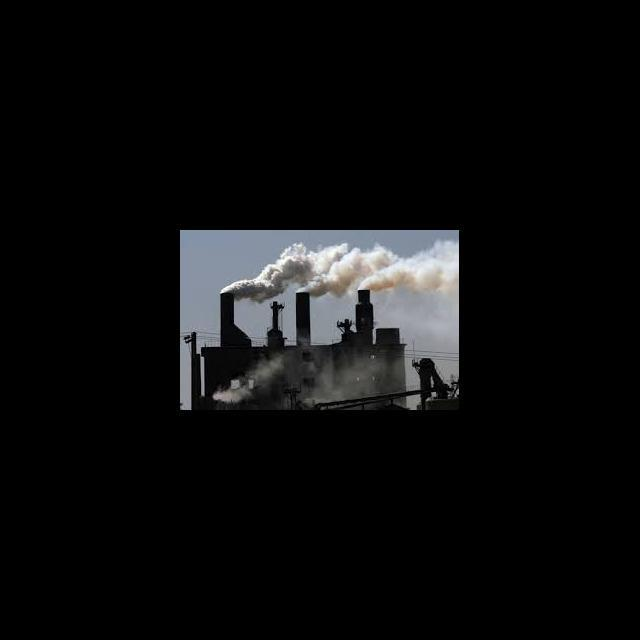Smoke: (226, 241, 458, 289), (206, 352, 406, 404)
